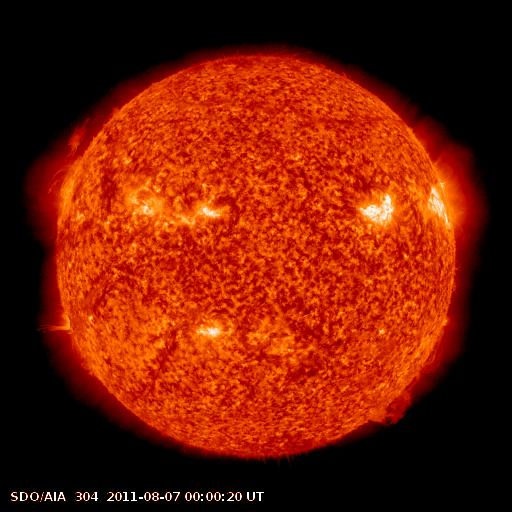prominence: (359, 316, 454, 430), (36, 96, 126, 205), (33, 313, 81, 346)
